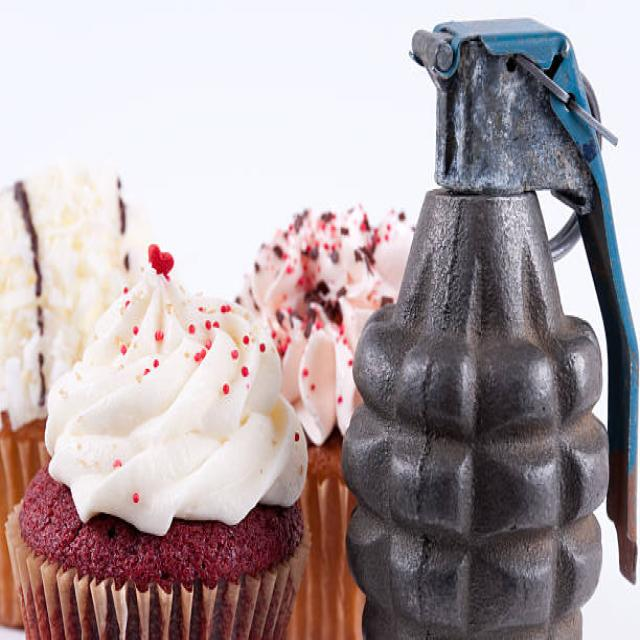grenade: (334, 7, 640, 640)
